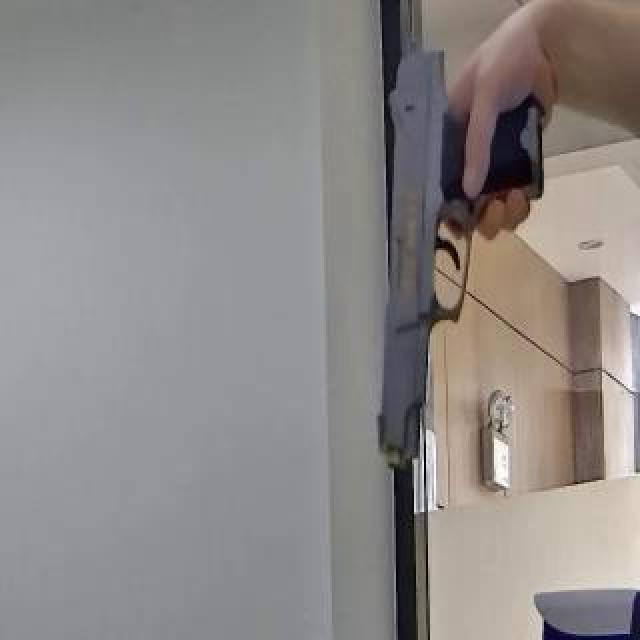Guns: (349, 5, 563, 482)
